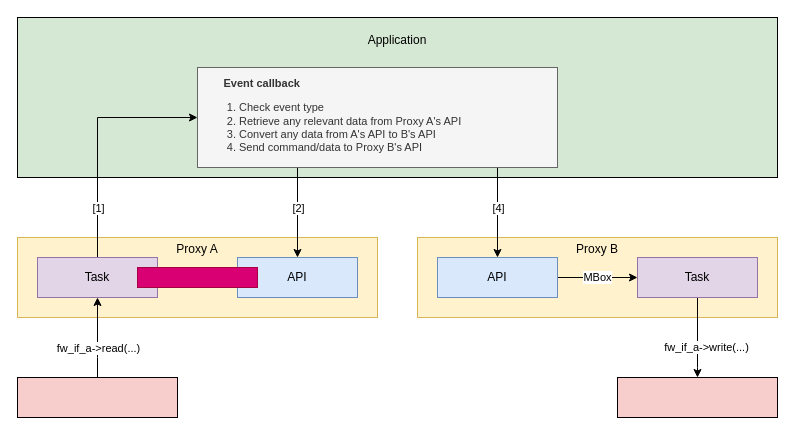
This 795x435 diagram has some shape labels left out. Each missing label, with the centre of its shape:
"Data (mtx'd)" goes at (x=197, y=277).
"FW_IF_A" goes at (x=97, y=397).
"FW_IF_B" goes at (x=697, y=397).
